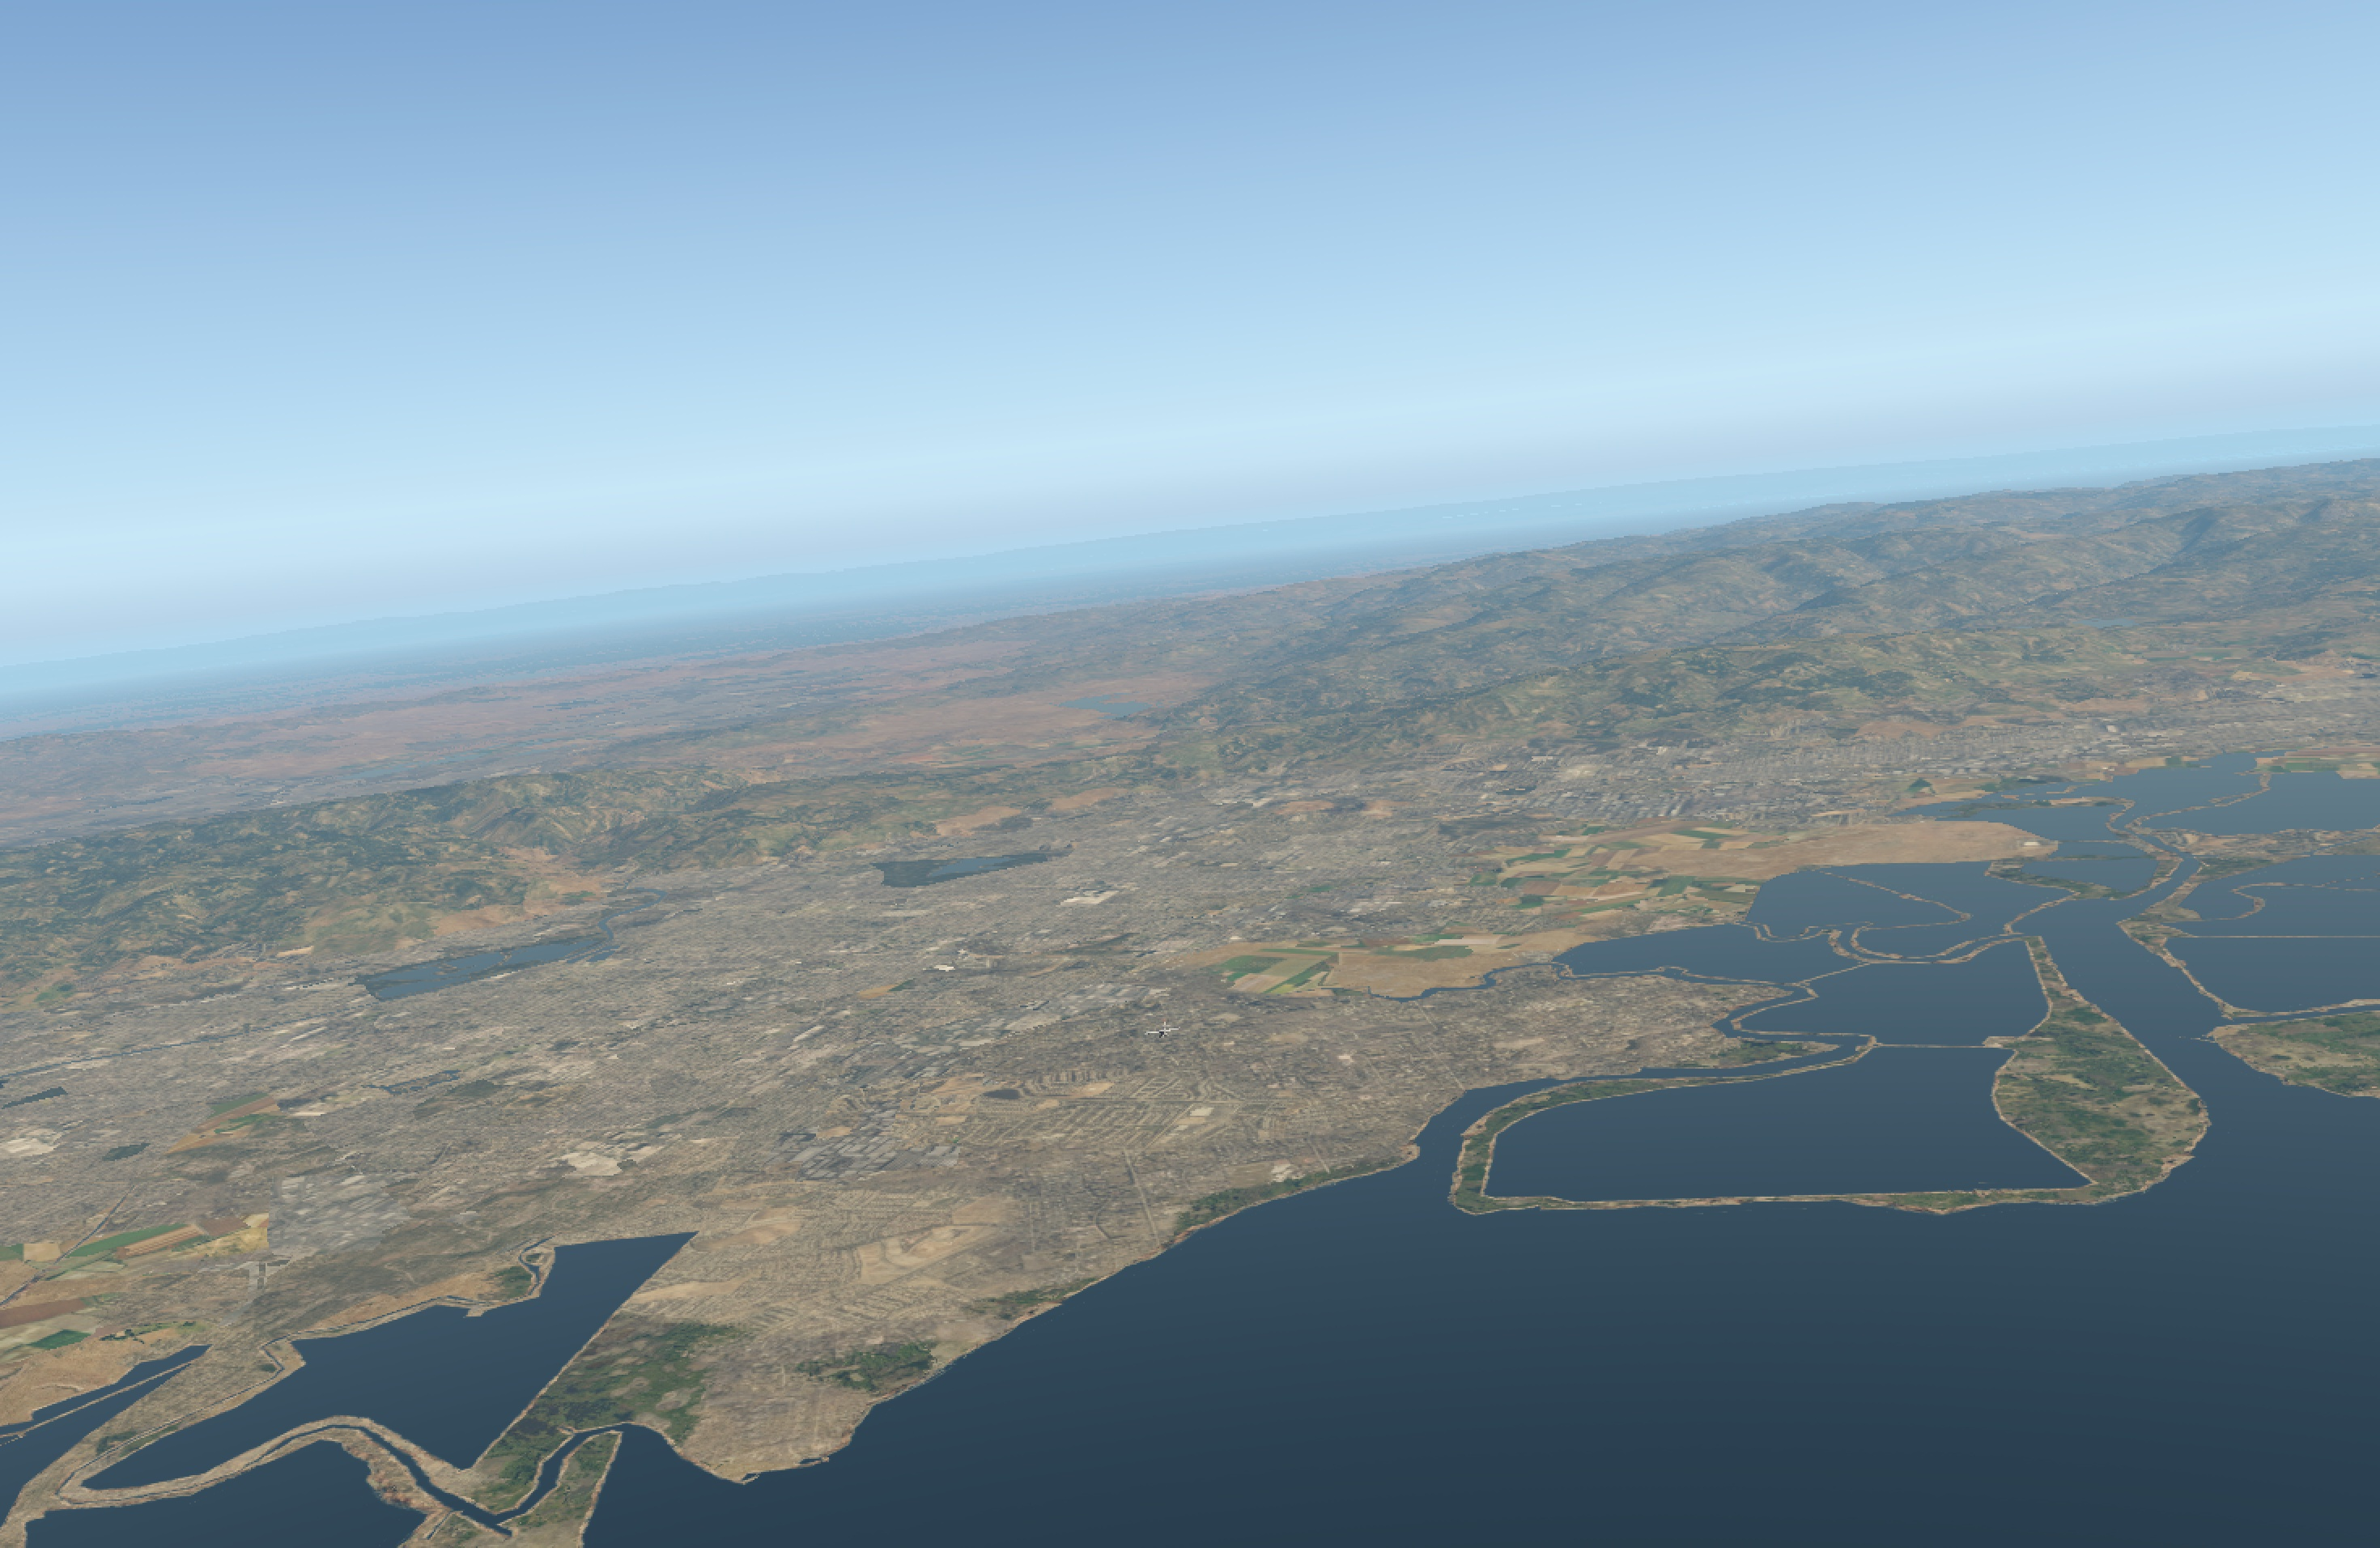aircraft: (1148, 1027, 1176, 1038)
